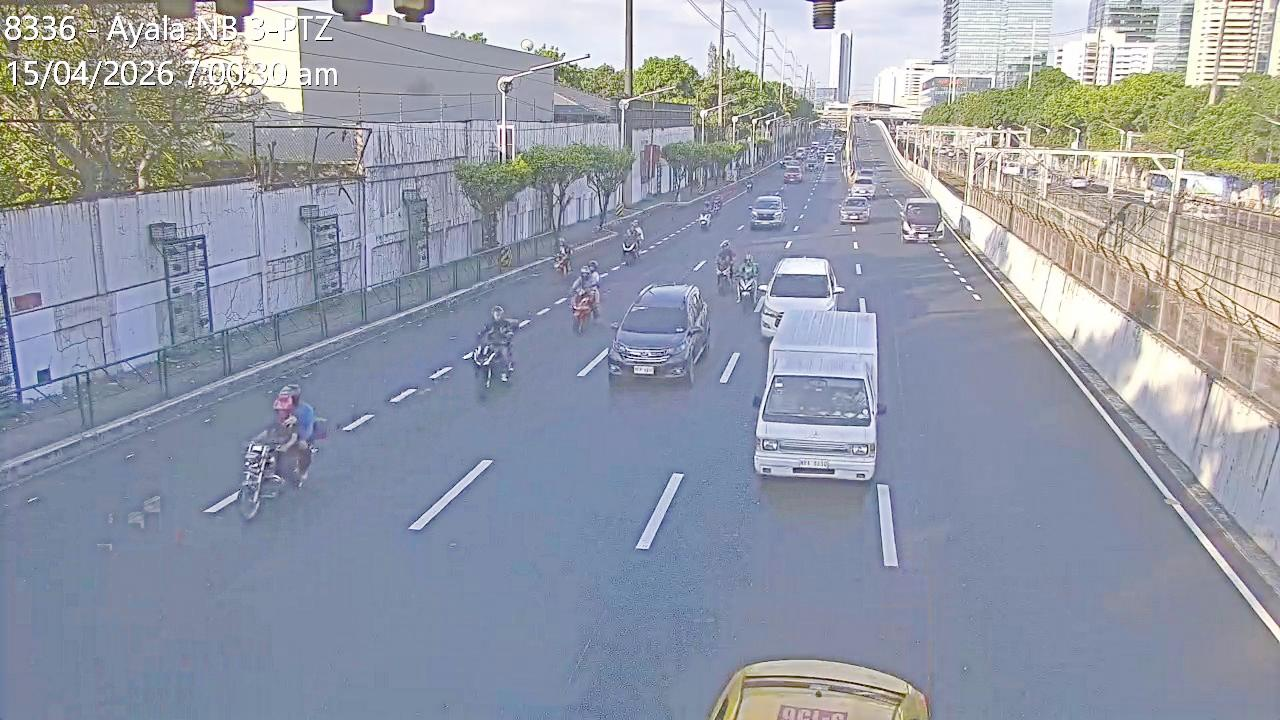Car: (754, 305, 882, 480), (700, 658, 933, 719), (609, 279, 712, 382), (760, 253, 843, 341), (899, 199, 943, 243), (748, 194, 786, 229), (838, 195, 871, 223), (849, 180, 876, 201), (782, 164, 803, 184)
Motor: (236, 416, 326, 521), (468, 330, 515, 395), (569, 266, 601, 329), (734, 268, 758, 309), (714, 254, 735, 293), (618, 236, 641, 266), (550, 247, 571, 279)
Not Accident: (748, 248, 888, 484), (540, 232, 706, 388), (716, 226, 764, 312)
